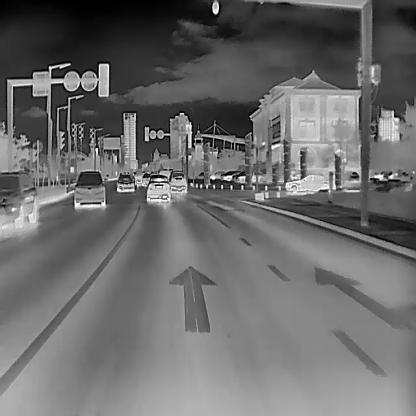car: (0, 170, 36, 234), (73, 169, 105, 209), (284, 172, 329, 193), (146, 174, 170, 202), (233, 169, 263, 183), (169, 169, 186, 193), (116, 171, 134, 192), (218, 169, 244, 180)
